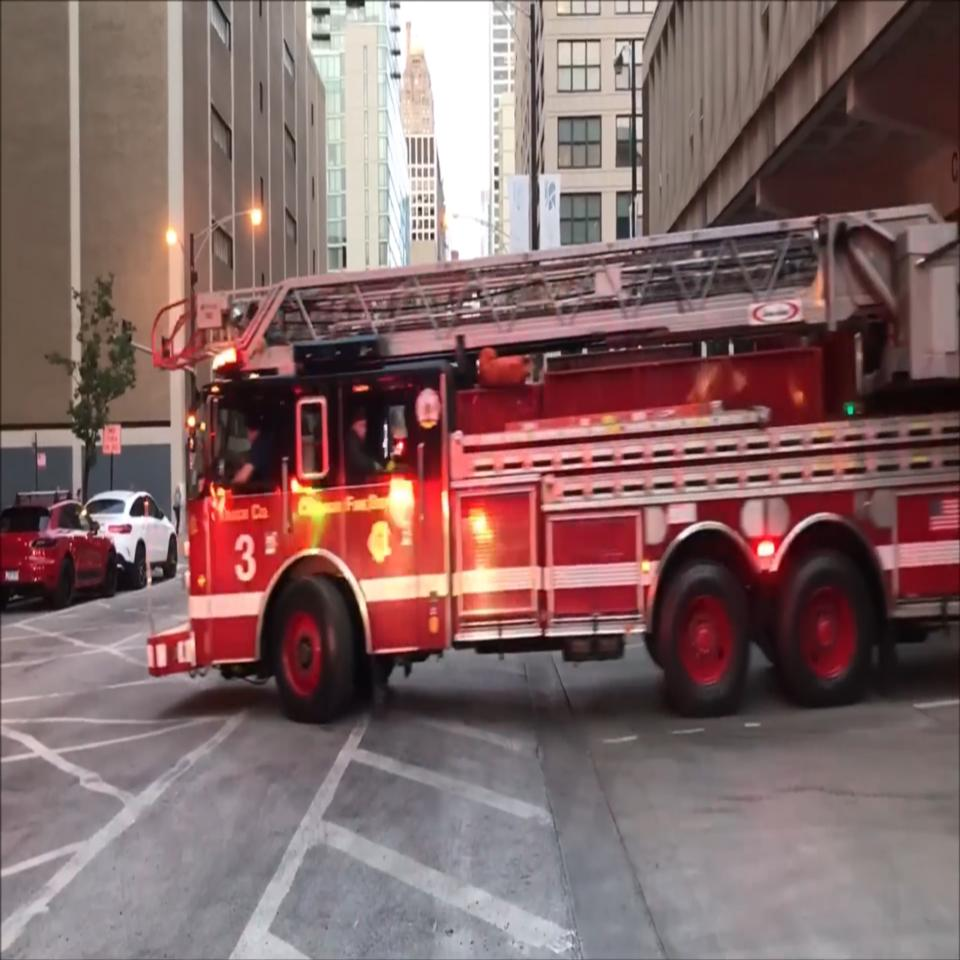viatura: (140, 203, 960, 723)
